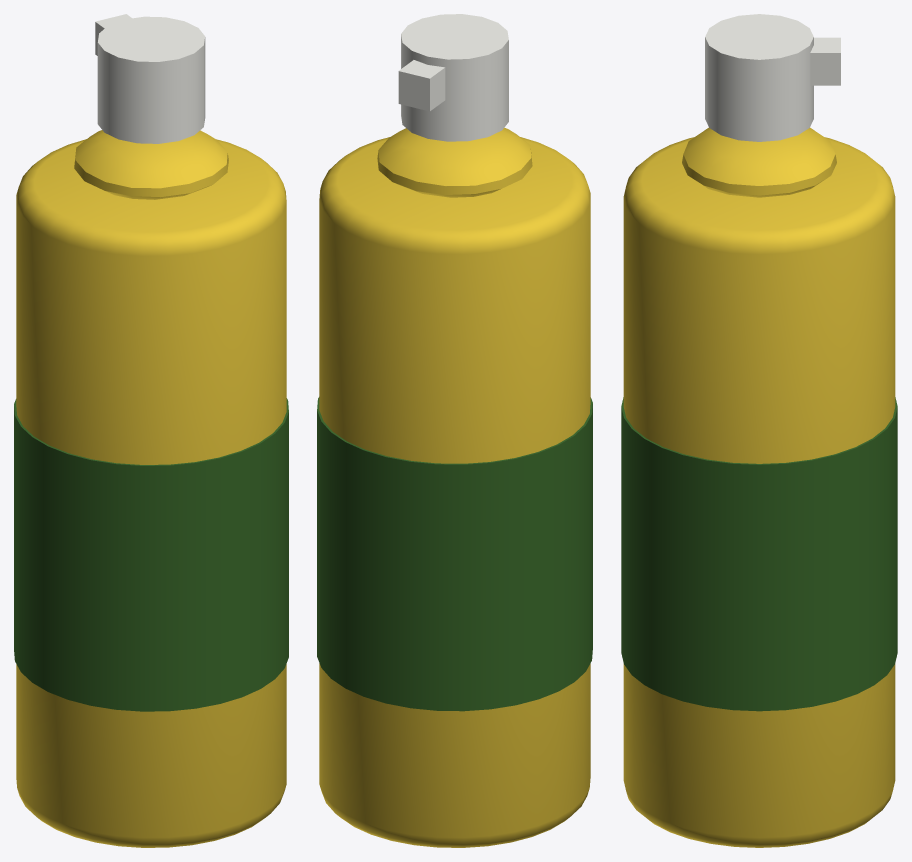
The model's file is bugSpray.glb.
3 views of the same model, side by side, from view 1: azimuth 30°, elevation 25°; view 2: azimuth 150°, elevation 25°; view 3: azimuth 270°, elevation 25° (orthographic).
Visible parts, largest first — view 1: can.001, label.001, nozzle; view 2: can.001, label.001, nozzle; view 3: can.001, label.001, nozzle.
Boxes of the visible parts, x1=… form: can.001: x1=16, y1=130, x2=286, y2=847; label.001: x1=14, y1=398, x2=288, y2=711; nozzle: x1=95, y1=14, x2=205, y2=143; can.001: x1=319, y1=127, x2=590, y2=847; label.001: x1=317, y1=397, x2=592, y2=711; nozzle: x1=398, y1=14, x2=508, y2=141; can.001: x1=623, y1=127, x2=895, y2=847; label.001: x1=621, y1=397, x2=897, y2=711; nozzle: x1=705, y1=14, x2=840, y2=141.
Size of the model in its own units: 0.061 by 0.185 by 0.061.
